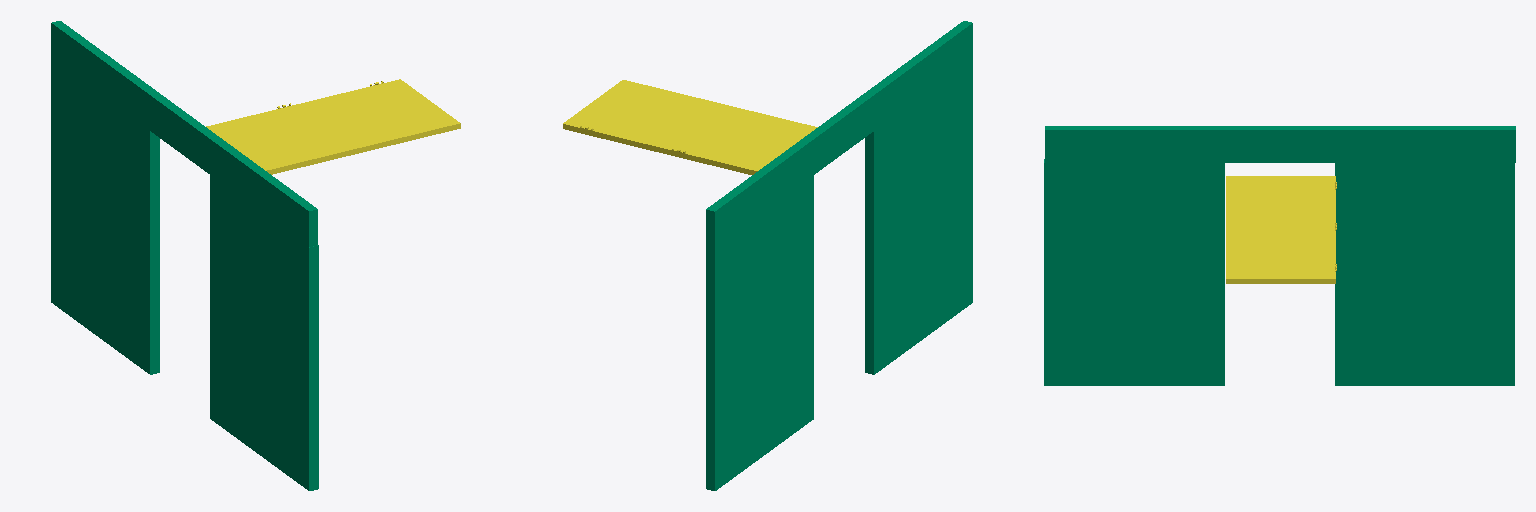
URDF robot description (door_test):
<robot name = 'door_test' xmlns:xacro="http://ros.org/wiki/xacro">
    <!-- <link name = 'world'/> -->
    
    <!-- <joint name = 'world2base' type = 'fixed'>
        <parent link = 'world'/>
        <child link = 'base_link'/>
    </joint> -->

    <link name = 'base_link'/>
    <joint name = 'base_to_door_fake_link' type = 'fixed'>
        <parent link = 'base_link'/>
        <origin xyz = '0.5 0 0.0' rpy = '0 0 3.14159'/>
        <child link = 'door_fake_link'/>
    </joint>
    <link name = 'door_fake_link'/>

        
    <joint name = 'base_joint' type = 'fixed'>
        <parent link = 'base_link'/>
        <origin xyz = '0 0.5 0.0' rpy='0 0 3.14159'/>
        <!-- if move y : the door will slide -->
        <child link = 'door_wall'/>
    </joint>

    <link name = 'door_wall'>
        <visual>
            <geometry>
                <box size='0.08 1.5 2.04'/>
            </geometry>
            <origin xyz = '0 -0.67 1.02' rpy = '0 0 0'/>
        </visual>
        <visual>
            <geometry>
                <box size='0.08 1.5 2.04'/>
            </geometry>
            <origin xyz = '0 1.74 1.02' rpy = '0 0 0'/>
        </visual>
        <visual>
            <geometry>
                <box size='0.08 3.91 0.3'/>
            </geometry>
            <origin xyz = '0 0.532 2.19' rpy = '0 0 0'/>
        </visual>

        <collision name="side_1_:hinge_side">
            <geometry>
                <box size='0.08 1.5 2.04'/>
            </geometry>
            <origin xyz = '0 -0.67 1.02' rpy = '0 0 0'/>
        </collision>
        <collision name="side_2">
            <geometry>
                <box size = '0.05029 0.06858 2.10820'/>
            </geometry>
            <origin xyz="-0.02 1.02 1.05" rpy="0 0 0"/>
        </collision>
        <collision>
            <geometry>
                <box size='0.08 1.5 2.04'/>
            </geometry>
            <origin xyz = '0 1.8 1.02' rpy = '0 0 0'/>
        </collision>
        <collision name="top">
            <geometry>
                <box size='0.08 3.91 0.3'/>
            </geometry>
            <origin xyz = '0 0.532 2.19' rpy = '0 0 0'/>
        </collision>
        <inertial>
            <origin xyz="0 0 0" rpy="0 0 0"/>
            <mass value="10000.0"/>
            <inertia ixx="0.0" ixy="0.0" ixz="0.0" iyy="0.0" iyz="0.0" izz="0.0"/>
        </inertial>
    </link>

    <joint name = 'door_hinge' type = 'revolute'>
        <axis xyz = '0 0 -1' rpy = '0 0 0 '/>
        <origin xyz = '-0.07 0.06858 2.040'/>
        <limit lower = '0' upper = '1.57' effort='10000' velocity="100.00"/>
        <dynamics damping="25.0" friction="0.0"/>
        <parent link = 'door_wall'/>
        <child link = 'door'/>
    </joint>

    <link name = 'door'>
        <visual>
            <geometry>
                <mesh filename = './meshes/door.dae'/>
            </geometry>
            <origin xyz = '-0.05 0 0' rpy = '-1.57 0 1.57'/>
            <color rgba = '0.5 0.5 0.5 1.0'/>
        </visual>
        <collision name="door_collision">
            <geometry>
                <mesh filename = './meshes/door.dae'/>
            </geometry>
            <origin xyz = '-0.05 0 0' rpy = '-1.57 0 1.57'/>
        </collision>
        <inertial>
            <origin xyz="0.4569 0.0349 1.016" rpy="0 0 0"/>
            <mass value="41.3256"/>
            <inertia ixx="14.2053" ixy="0.0004" ixz="0.0000" iyy="17.1997" iyz="0.0000" izz="3.0298"/>
        </inertial>
    </link>

    <joint name = 'door_handle' type = 'revolute'>
        <axis xyz = '1 0 0' rpy = '0 0 0 '/>
        <parent link = 'door'/>
        <origin xyz = '0.035 0.75 -1.02'/>
        <limit lower = '0' upper = '0.5236' effort='100' velocity="1000.00"/>
        <dynamics damping="0.01" friction="0.0"/>
        <child link = 'door_handles'/>
    </joint>

    <link name = 'door_handles'>
        <visual>
            <geometry>
                <mesh filename = './meshes/shirokuma_scaled.stl'/> 
            </geometry>
            <origin xyz = '-0.0225 0 0' rpy = '0 0 3.14'/>
            <color rgba = '0.55 0.5 0.5 1.0'/>
        </visual>
        <visual>
            <geometry>
                <mesh filename = './meshes/shirokuma_scaled.stl'/>
            </geometry>
            <origin xyz = '0.055 0 0' rpy = '3.14 0 0'/>
             <color rgba = '0.5 0.5 0.5 1.0'/>
        </visual>
        <collision>
            <geometry>
                <mesh filename='./meshes/shirokuma_scaled_collision.stl'/>
            </geometry>
            <origin xyz = '-0.0225 0 0' rpy = '0 0 3.14'/>
        </collision>
        <collision>
            <geometry>
                <mesh filename="./meshes/shirokuma_scaled_collision.stl"/>
            </geometry>
            <origin xyz = '0.055 0 0' rpy = '3.14 0 0'/>
        </collision>
        <inertial>
            <origin xyz="0.0 0.0 0.0" rpy="3.14159 0 1.57"/>
            <mass value="1.0"/>
        </inertial>
    </link>
    
    <joint name = 'handle2latch' type = 'fixed'>
        <parent link = 'door_handles'/>
        <child link = 'door_latch'/>
    </joint>

    <link name='door_latch'>
        <collision>
            <geometry>
                <box size='0.001 0.5 0.01'/>
            </geometry>
            <origin xyz = '-0.014 0.2 0.9' rpy = '0 0 0'/>
        </collision>
    </link>
    <!-- <gazebo reference="world">
        <material>Gazebo/Red</material>
    </gazebo> -->

</robot>

--- Facts derived from the render (not from the file) ---
Views: 3 orthographic renders of the robot side by side, from view 1: azimuth 30°, elevation 25°; view 2: azimuth 150°, elevation 25°; view 3: azimuth 270°, elevation 25°.
Model door_test with 6 links and 5 joints (2 revolute, 3 fixed), rooted at base_link, posed every joint at zero.
Visible links, largest first — view 1: door_wall, door; view 2: door_wall, door; view 3: door_wall, door.
Link boxes in pixels (bbox=[...]): door_wall: bbox=[51, 21, 318, 490]; door: bbox=[206, 79, 460, 174]; door_wall: bbox=[706, 21, 972, 490]; door: bbox=[563, 80, 817, 174]; door_wall: bbox=[1044, 126, 1515, 385]; door: bbox=[1226, 176, 1336, 283].
Size in the robot's own frame: 2.19 by 3.91 by 2.34 metres.
Meshes: 2 distinct files referenced, 1 mesh visuals loaded (1 Collada DAE); not drawn: 2 (reference not matched to a file when rendering).